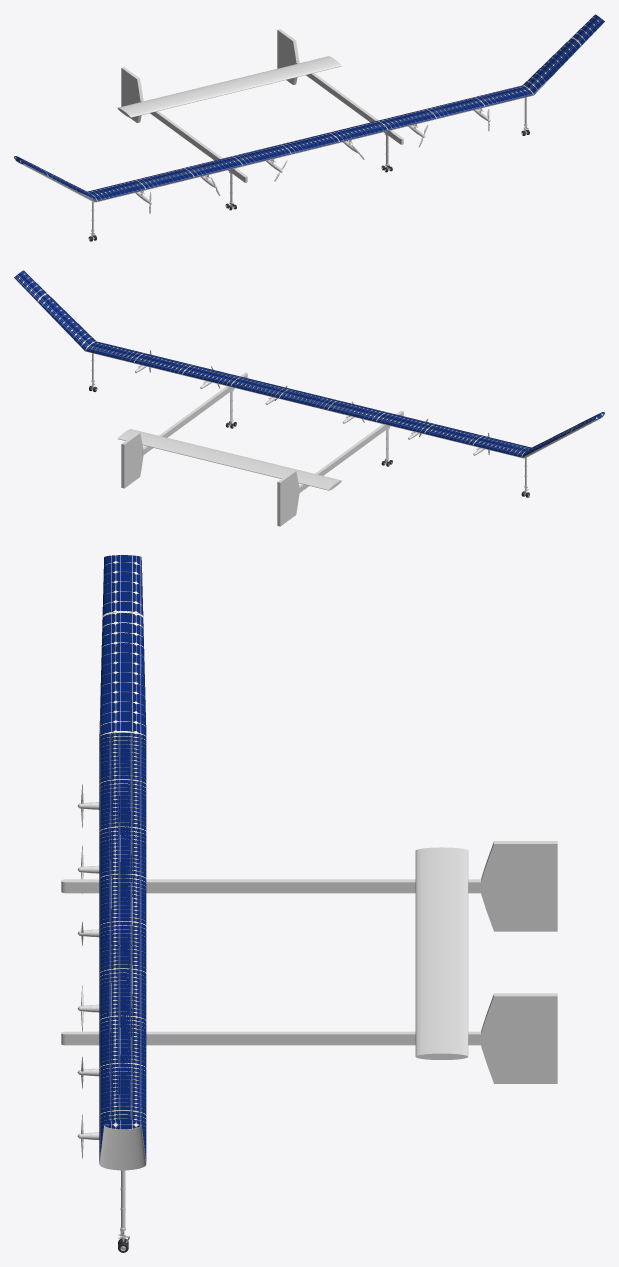
File: Duck.glb
3 renders of one model, top to bottom at view 1: azimuth 30°, elevation 25°; view 2: azimuth 150°, elevation 25°; view 3: azimuth 270°, elevation 25°, orthographic. The views are drawn at different scales.
Visible parts, largest first — view 1: Line001, Line005; view 2: Line001, Line005; view 3: Line001, Line005.
Part boxes in pixels (left/top/right/bottom): Line001: left=14, top=22, right=604, bottom=241; Line005: left=14, top=14, right=604, bottom=201; Line001: left=14, top=278, right=603, bottom=526; Line005: left=14, top=270, right=604, bottom=457; Line001: left=61, top=783, right=557, bottom=1252; Line005: left=99, top=555, right=146, bottom=1162.
Bounding box in the file's own units: 9.86 × 1.66 × 3.63.
Materials: 44 (1 with a texture image).
